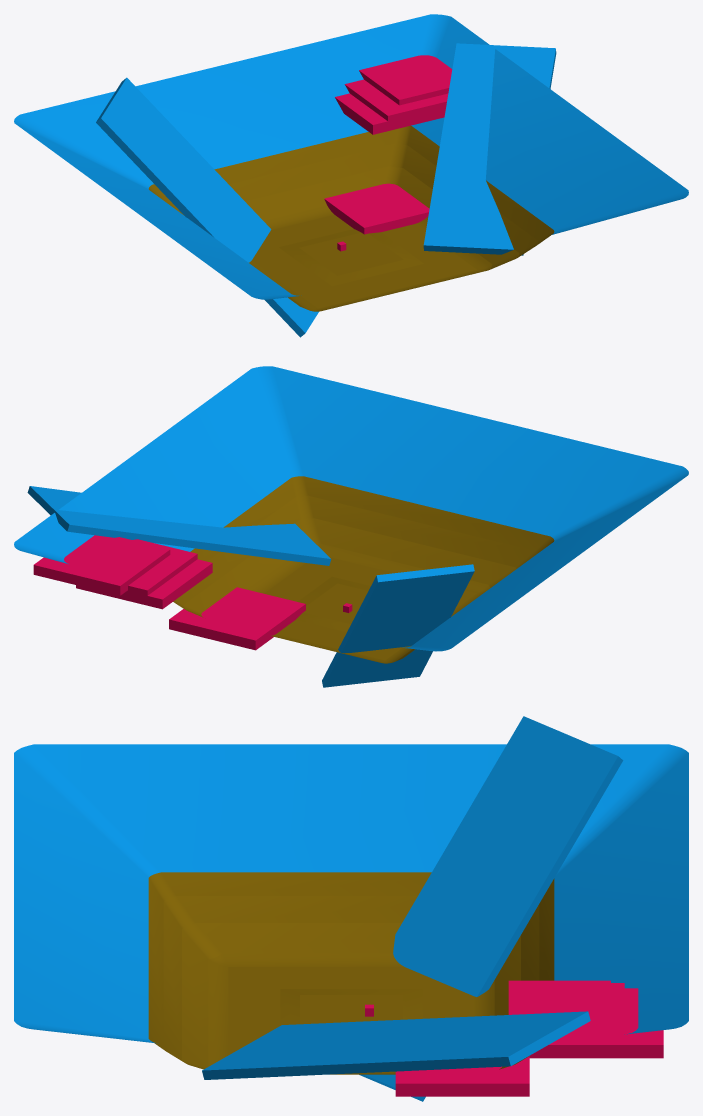
Rendered from test_level.glb.
3 views of the same model, one above another, from view 1: azimuth 30°, elevation 25°; view 2: azimuth 150°, elevation 25°; view 3: azimuth 270°, elevation 25° (orthographic). The views are drawn at different scales.
Visible parts, largest first — view 1: Plane.001, Plane, Floor.005, Floor.006, Floor.001, Floor.002, Floor.003, Floor.004; view 2: Plane.001, Plane, Floor.006, Floor.005, Floor.001, Floor.002, Floor.004, Floor.003; view 3: Plane.001, Plane, Floor.006, Floor.005, Floor.002, Floor.001, Floor.003.
Boxes of the visible parts, bbox=[...] form: Plane.001: bbox=[14, 14, 688, 299]; Plane: bbox=[148, 125, 554, 311]; Floor.005: bbox=[423, 43, 556, 255]; Floor.006: bbox=[96, 77, 318, 337]; Floor.001: bbox=[324, 183, 429, 234]; Floor.002: bbox=[359, 55, 452, 105]; Floor.003: bbox=[344, 79, 448, 125]; Floor.004: bbox=[335, 93, 445, 134]; Plane.001: bbox=[14, 366, 688, 651]; Plane: bbox=[173, 476, 554, 663]; Floor.006: bbox=[322, 564, 474, 687]; Floor.005: bbox=[27, 486, 331, 565]; Floor.001: bbox=[169, 587, 305, 650]; Floor.002: bbox=[33, 535, 170, 595]; Floor.004: bbox=[76, 559, 212, 609]; Floor.003: bbox=[123, 539, 197, 600]; Plane.001: bbox=[14, 744, 688, 1043]; Plane: bbox=[148, 872, 554, 1074]; Floor.006: bbox=[359, 716, 623, 1101]; Floor.005: bbox=[202, 1011, 590, 1079]; Floor.002: bbox=[529, 988, 663, 1058]; Floor.001: bbox=[395, 1056, 529, 1096]; Floor.003: bbox=[508, 983, 624, 1014].
Size of the model in its own units: 278 by 108 by 252.
